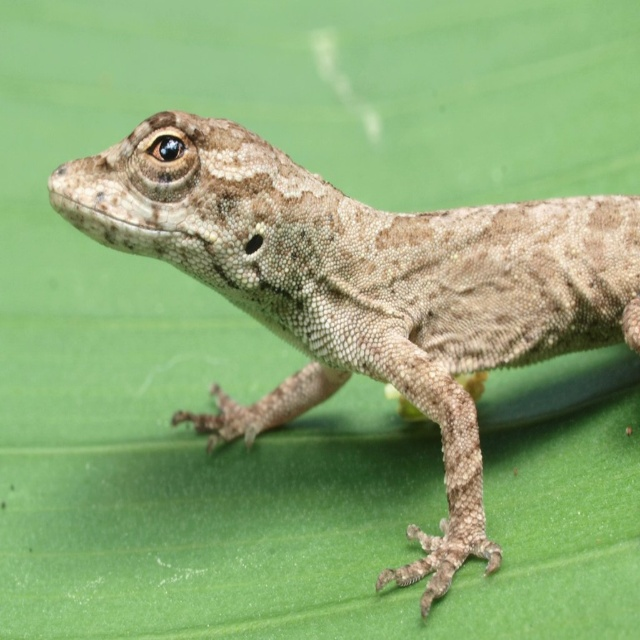Lizard: (46, 110, 640, 627)
